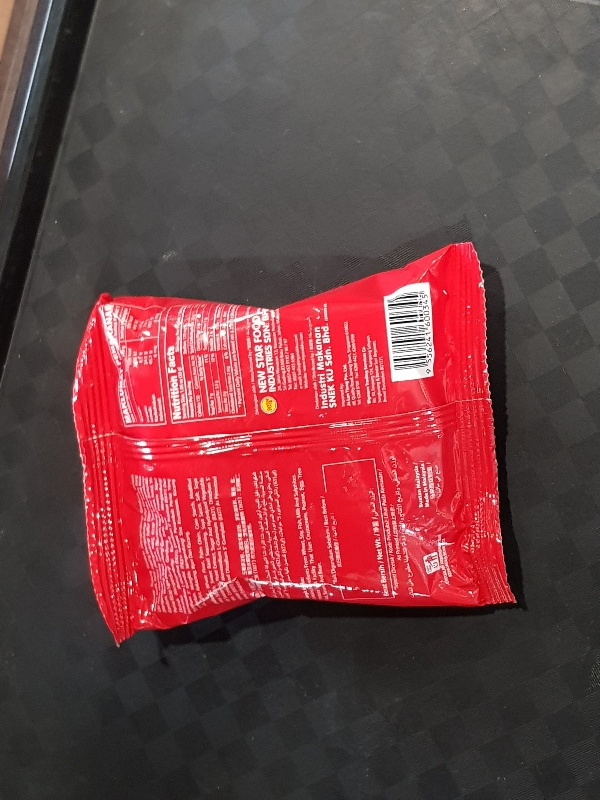ShoyueMi Spicy Flavoured Snacks: (72, 242, 520, 650)
